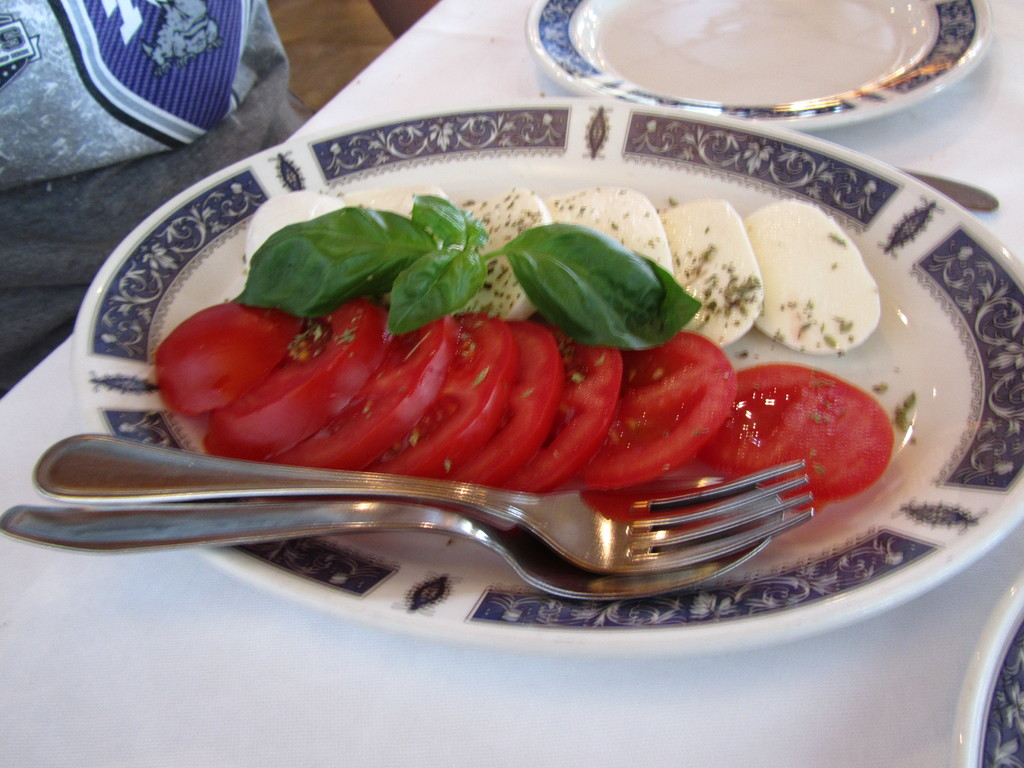Tomato: (154, 296, 892, 510)
